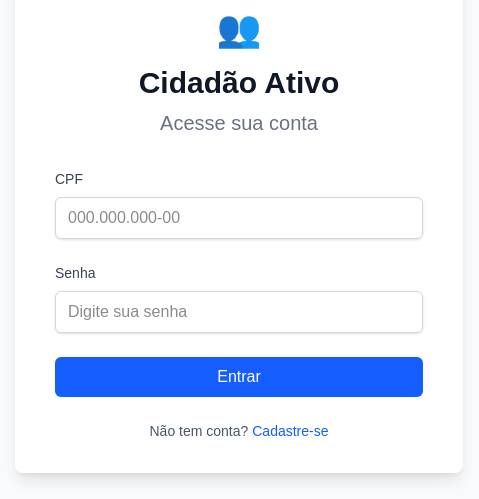
Test: Login Component › CPF Formatting › should handle partial CPF formatting
The image size is (479, 499).
Type "123456" into the field labelled "CPF" at {"x": 239, "y": 218}, box [55, 197, 423, 239]
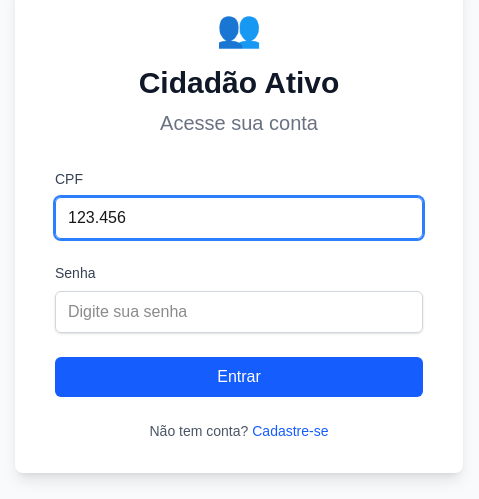
expect the field labelled "CPF" holds "123.456": met, box [55, 197, 423, 239]
